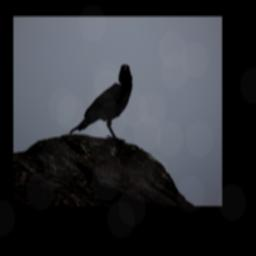Crow: (69, 63, 134, 141)
